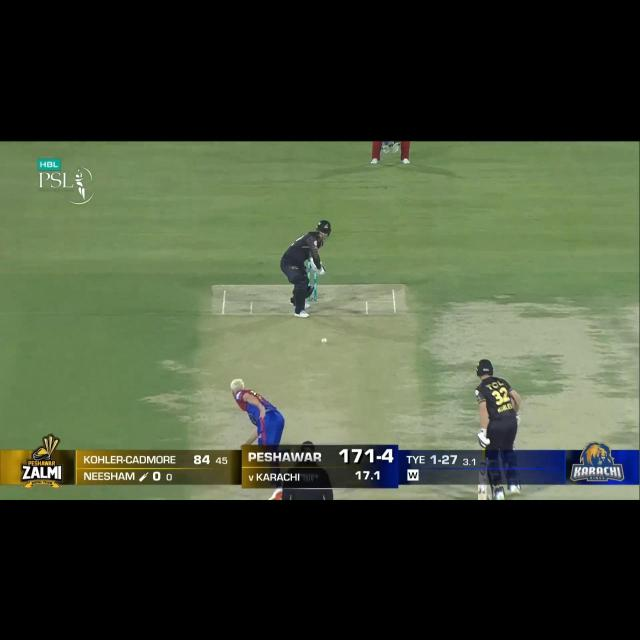toe: (477, 484, 489, 502)
